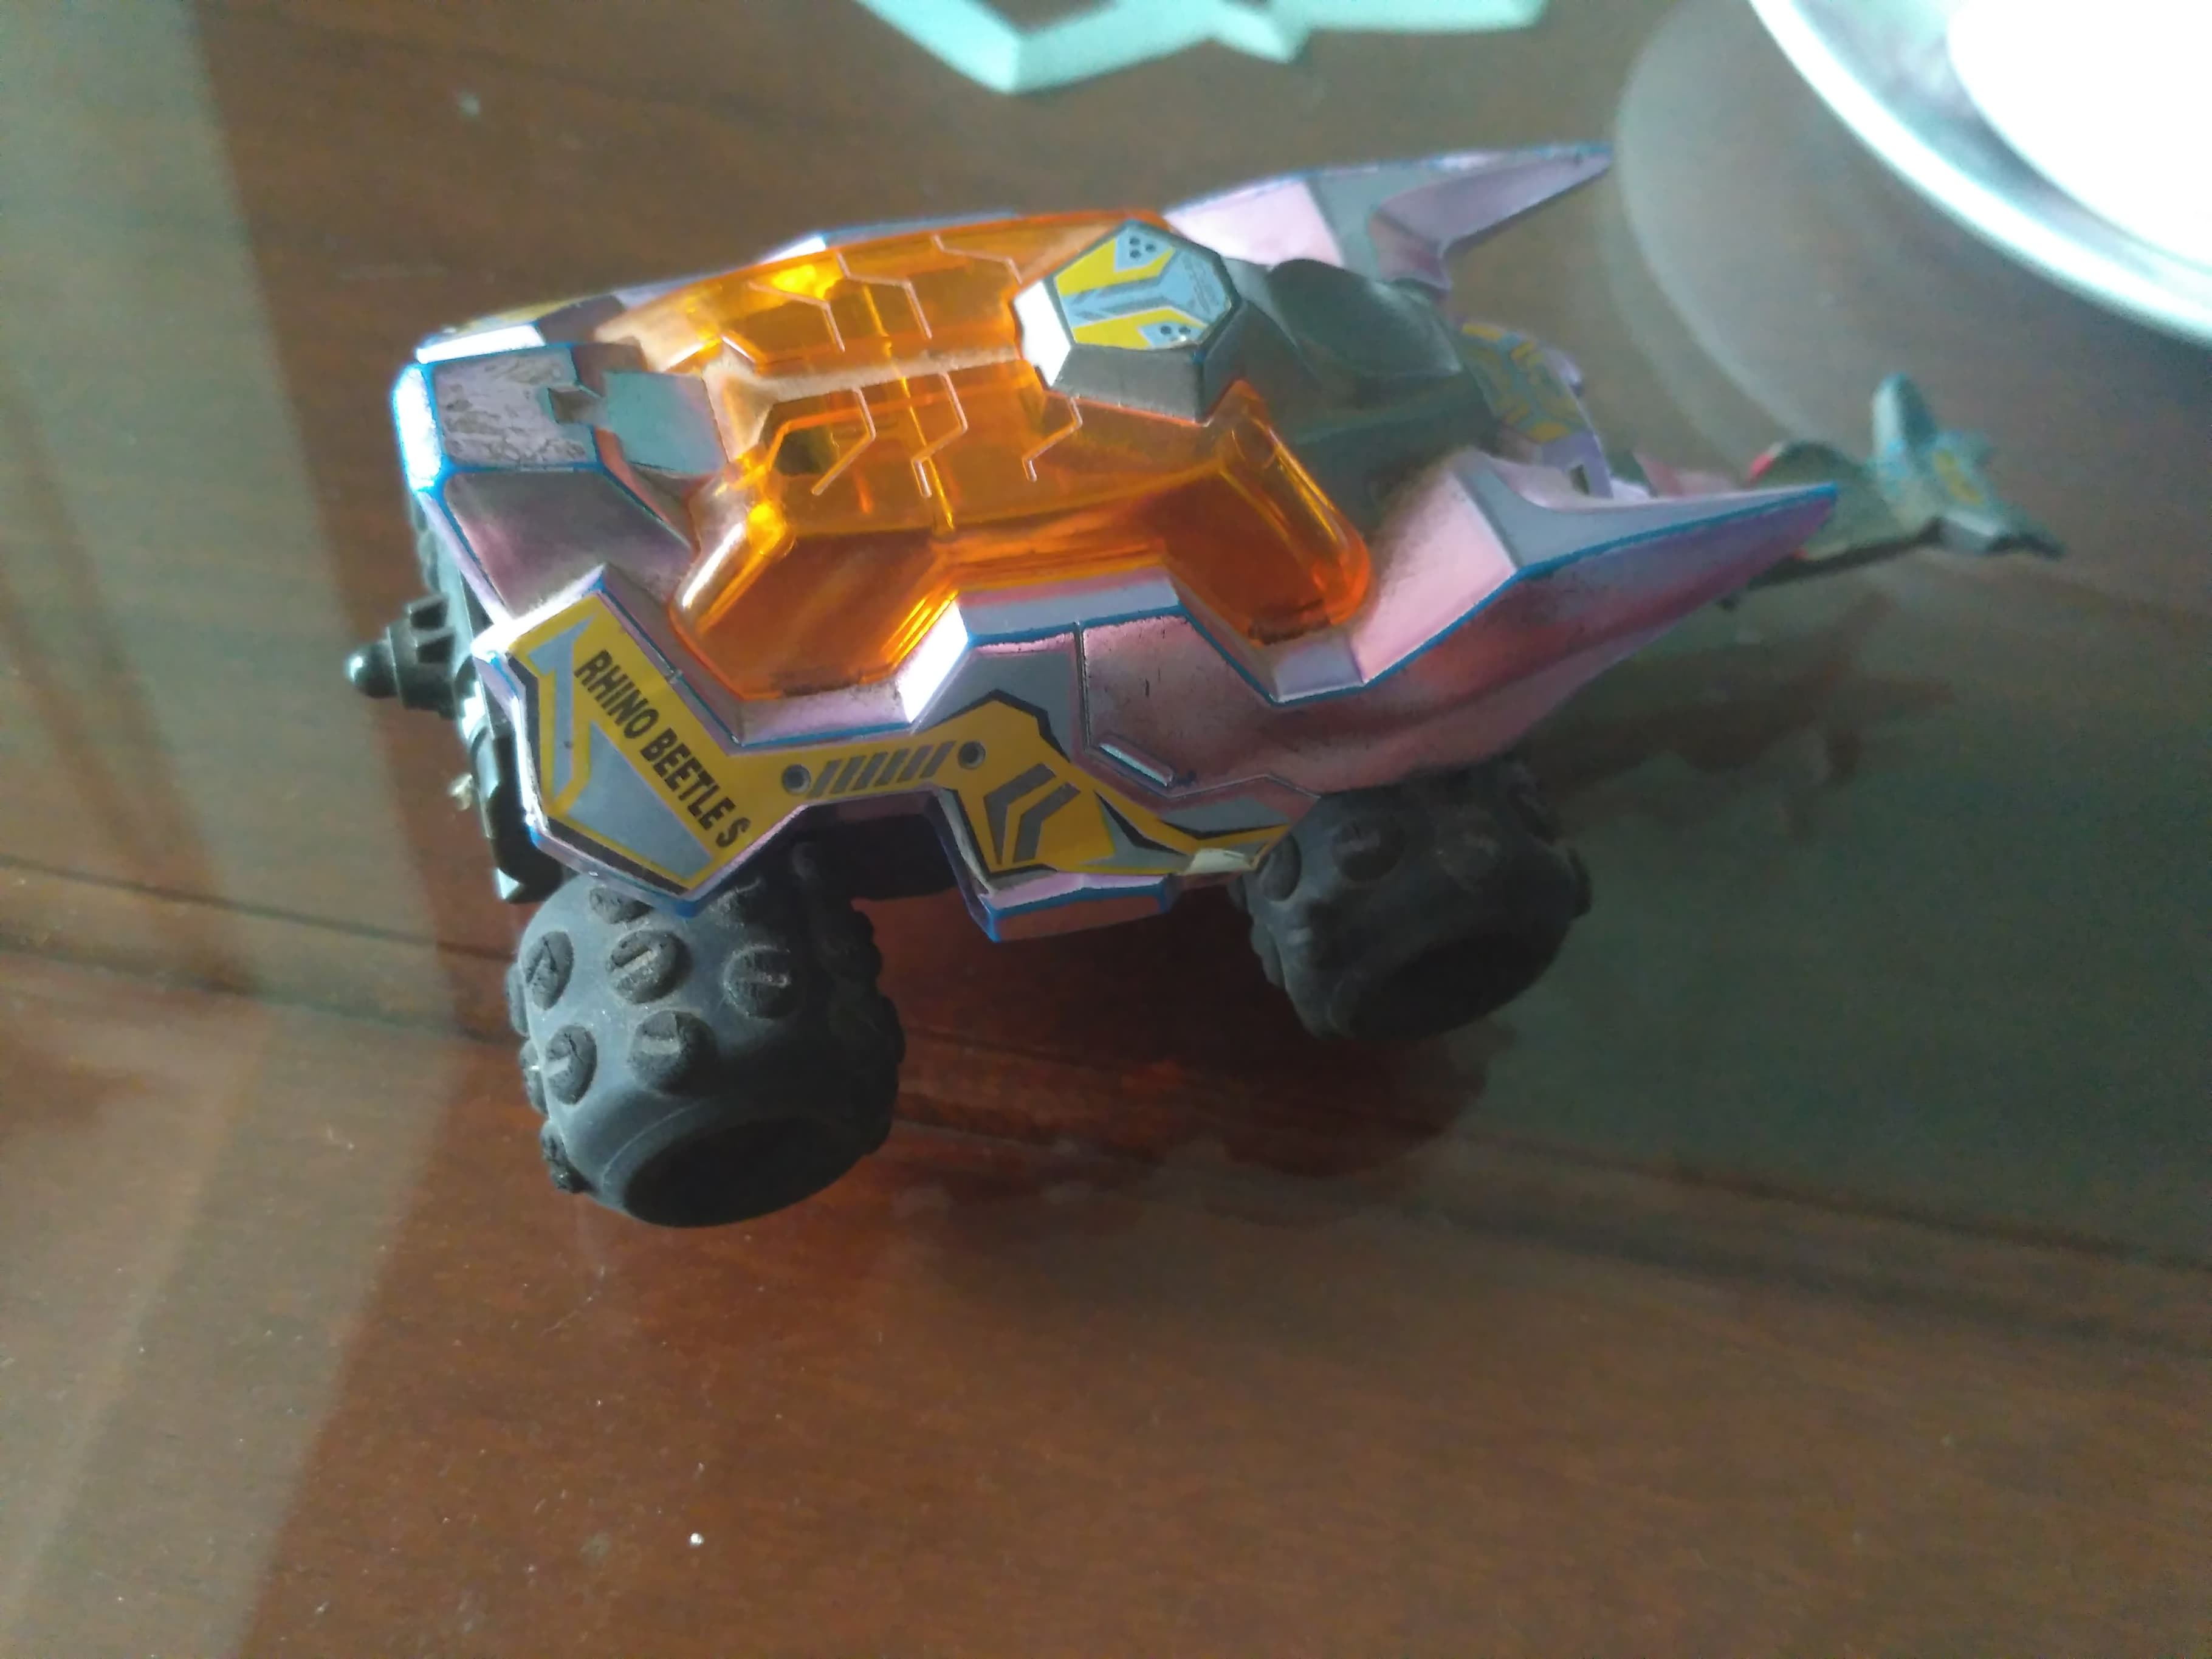rhino: (326, 132, 2074, 1239)
